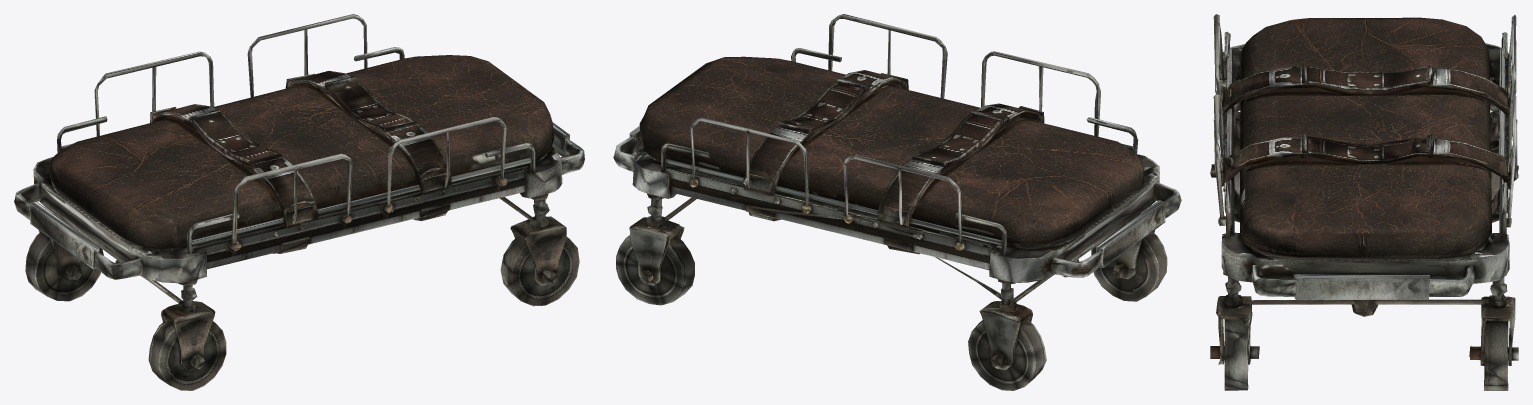
The model's file is restraint bed2.fbx.
3 views of the same model, side by side, from view 1: azimuth 30°, elevation 25°; view 2: azimuth 150°, elevation 25°; view 3: azimuth 270°, elevation 25° (orthographic). The views are drawn at different scales.
Visible parts, largest first — view 1: mesh_node; view 2: mesh_node; view 3: mesh_node.
Part boxes in pixels (bbox=[...]): mesh_node: bbox=[14, 14, 584, 390]; mesh_node: bbox=[613, 14, 1181, 390]; mesh_node: bbox=[1210, 14, 1518, 390].
Size of the model in its own units: 100 by 41.31 by 53.13.
Materials: 1 (1 with a texture image).
